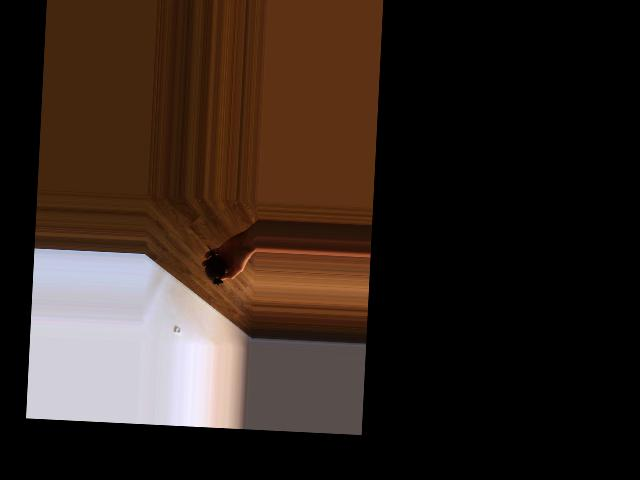beet: (203, 245, 228, 284)
